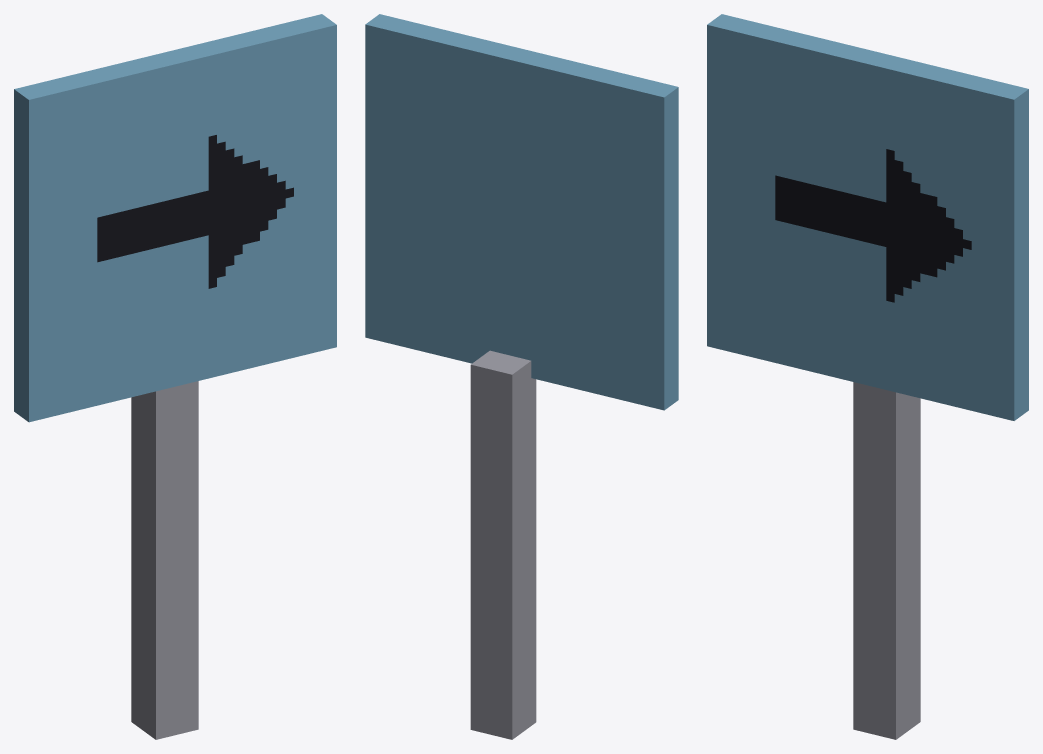
The model's file is sign_right.obj.
3 renders of one model, left to right at view 1: azimuth 30°, elevation 25°; view 2: azimuth 150°, elevation 25°; view 3: azimuth 330°, elevation 25°, orthographic. The views are drawn at different scales.
Size of the model in its own units: 0.9 by 1.9 by 0.175.
1 material, 1 textured.
